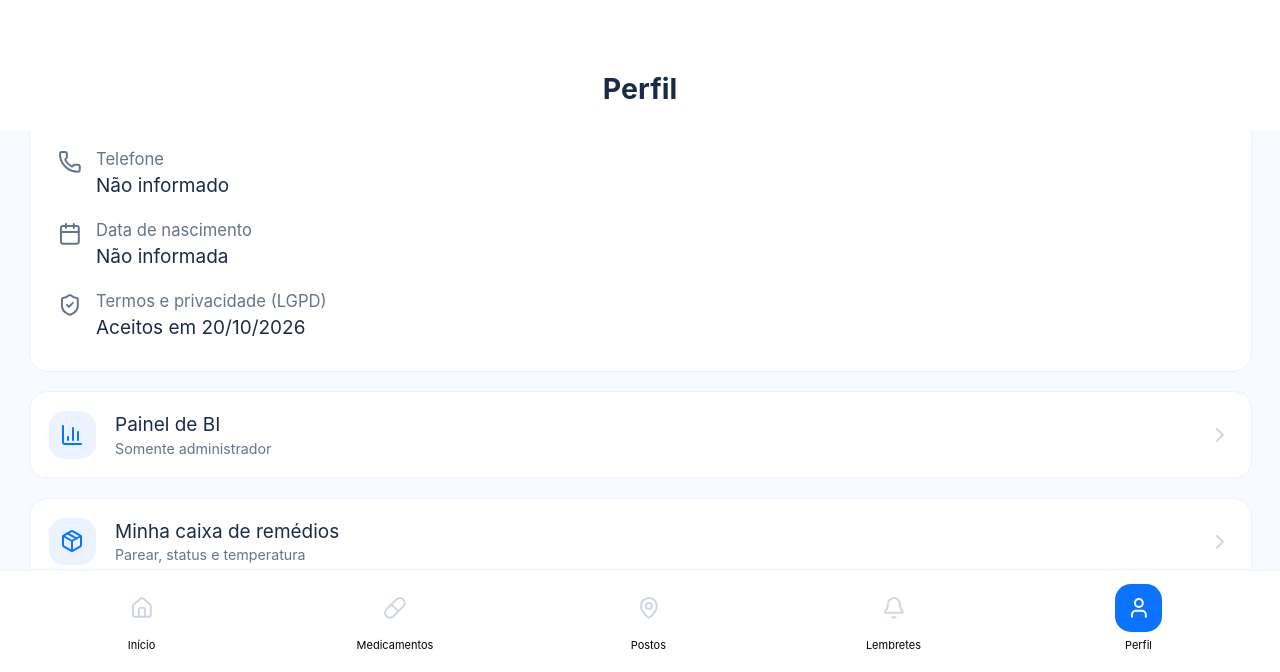
tela de Perfil › administrador vê o item e abre o painel
(page scrolled)
Click the text "Painel de BI": (168, 425) [115,413,220,436]
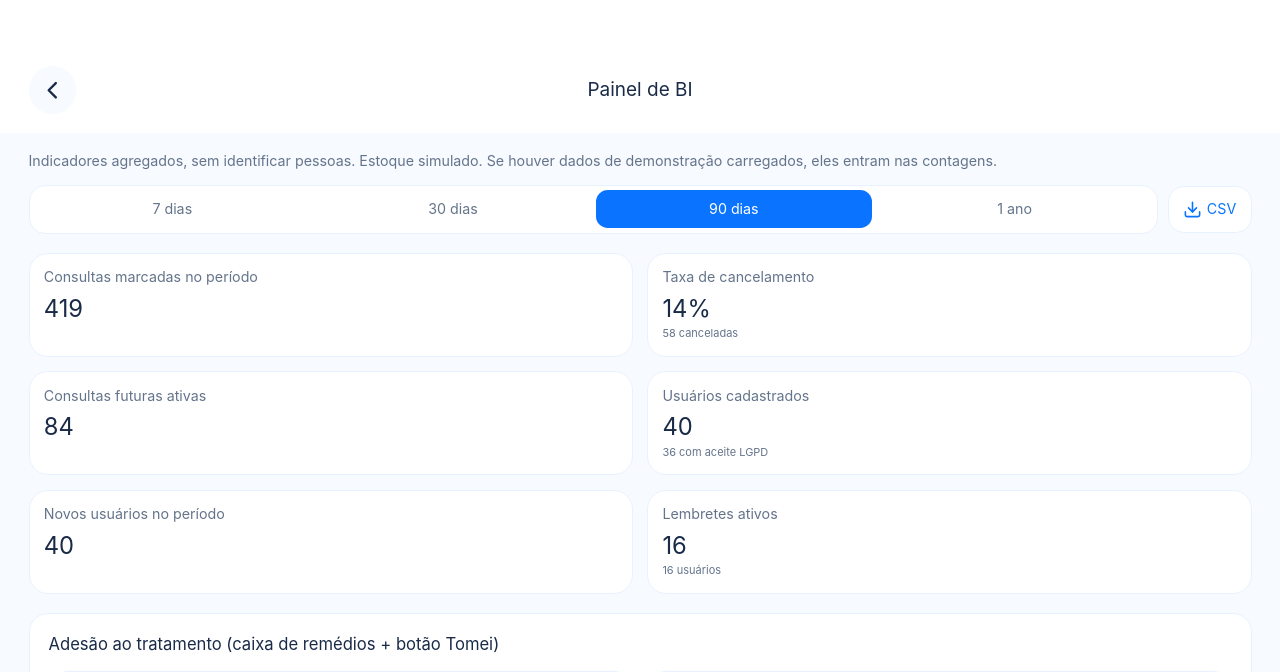
Now the text "Estoque simulado" is shown, box [28,152,997,168]
